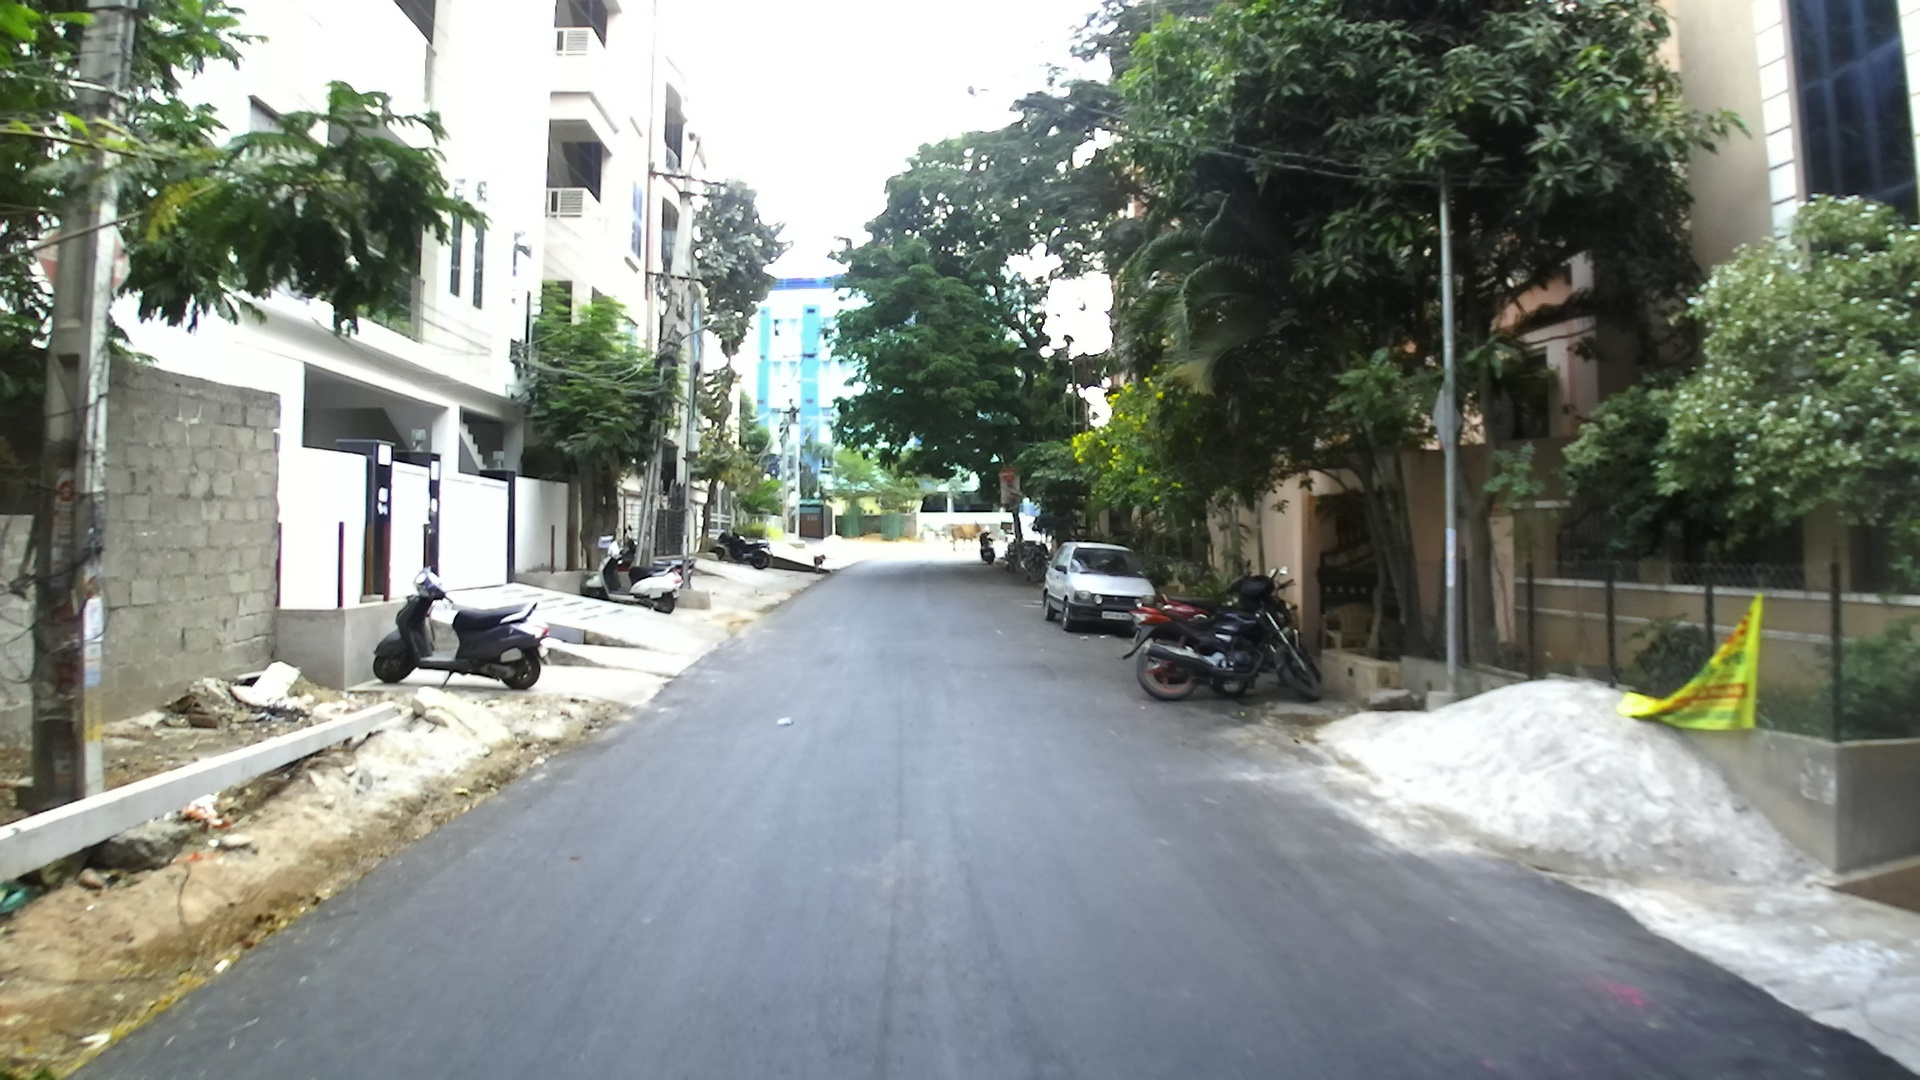vehicle: (1131, 570, 1323, 703), (1042, 543, 1156, 634)
